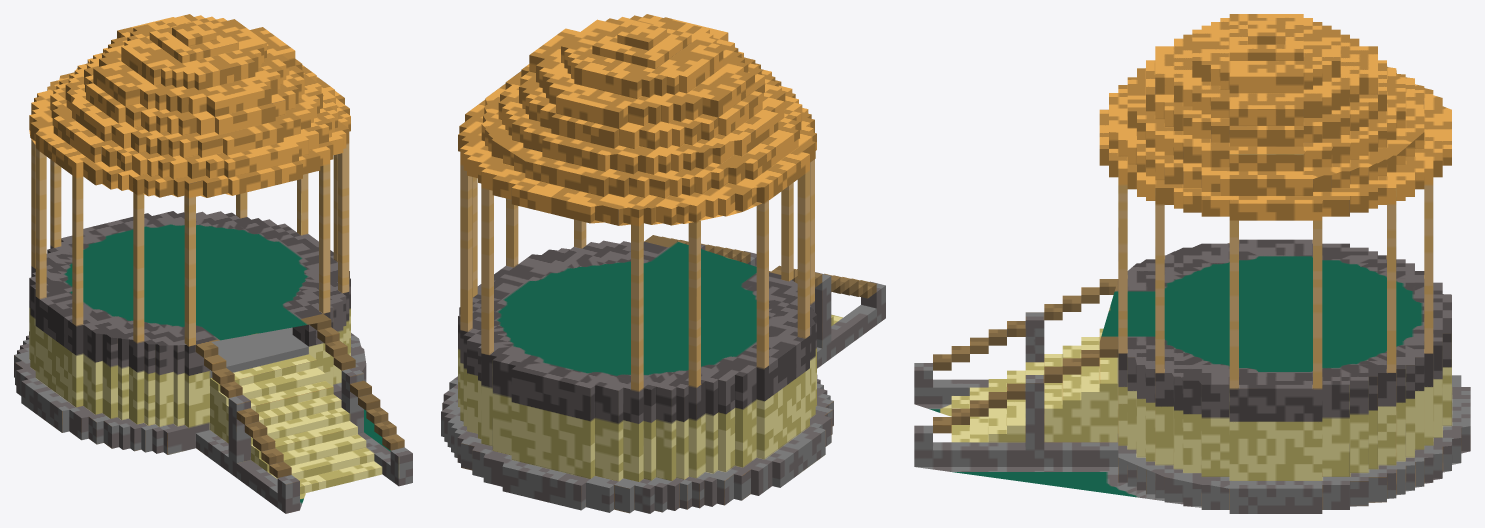
File: Kiosk.obj
3 views of the same model, side by side, from view 1: azimuth 30°, elevation 25°; view 2: azimuth 150°, elevation 25°; view 3: azimuth 270°, elevation 25° (orthographic). The views are drawn at different scales.
Parts seen in each view (by area): view 1: Kiosk_Medieval_Assets-8.001; view 2: Kiosk_Medieval_Assets-8.001; view 3: Kiosk_Medieval_Assets-8.001.
Part boxes in pixels (x1,y1,x2,y2): Kiosk_Medieval_Assets-8.001: (14,14,412,513); Kiosk_Medieval_Assets-8.001: (441,14,885,513); Kiosk_Medieval_Assets-8.001: (914,14,1470,513).
Bounding box in the file's own units: 4.2 × 4.8 × 6.
Materials: 1 (1 with a texture image).
